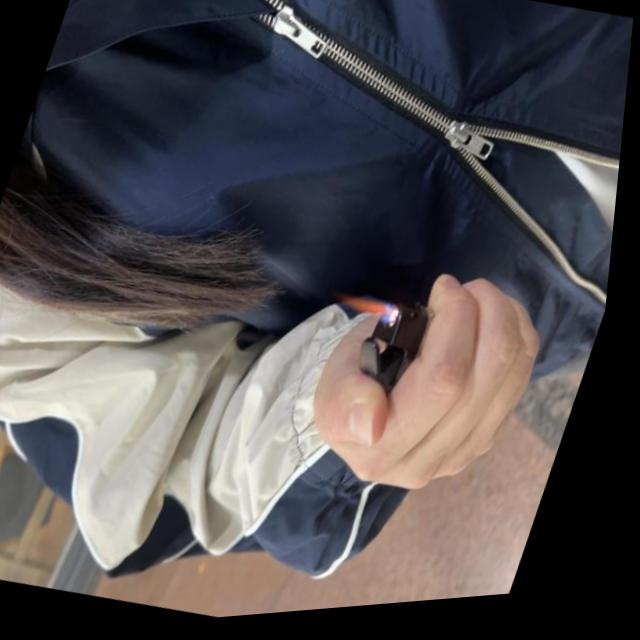Fire: (342, 294, 404, 331)
